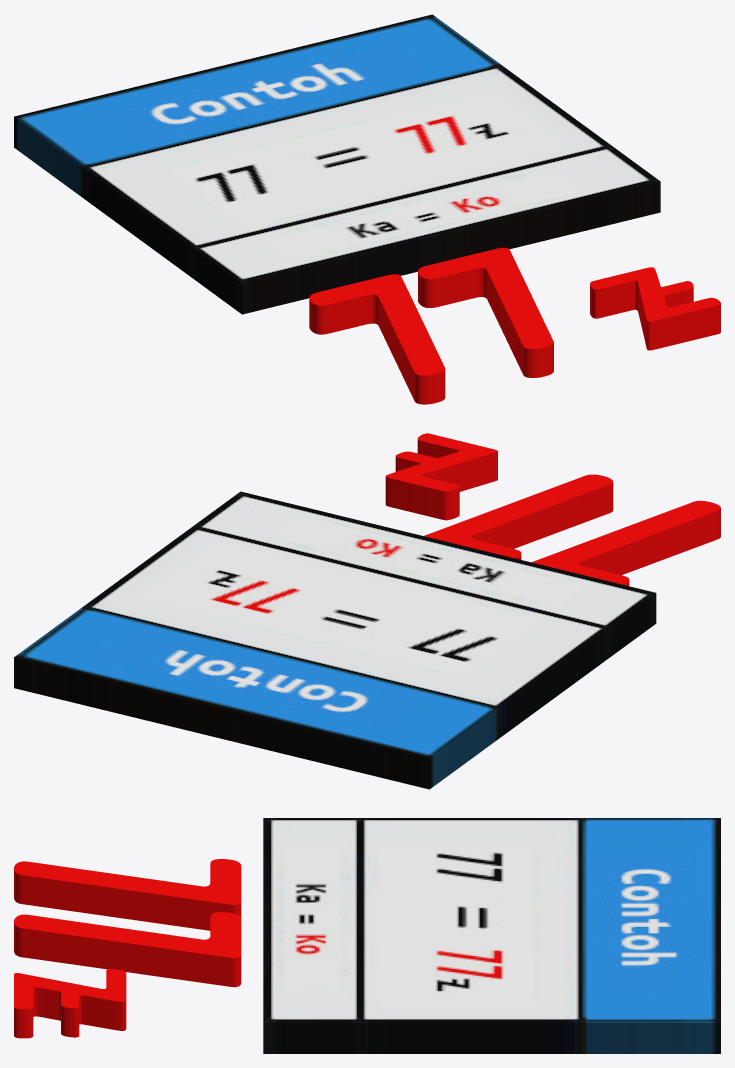
3 views of the same model, one above another, from view 1: azimuth 30°, elevation 25°; view 2: azimuth 150°, elevation 25°; view 3: azimuth 270°, elevation 25° (orthographic).
Parts seen in each view (by area): view 1: contoh-o-Rarangken, Text; view 2: contoh-o-Rarangken, Text; view 3: contoh-o-Rarangken, Text.
Boxes of the visible parts, left/top/right/bottom form: contoh-o-Rarangken: left=14, top=14, right=660, bottom=314; Text: left=309, top=247, right=720, bottom=404; contoh-o-Rarangken: left=14, top=491, right=656, bottom=789; Text: left=385, top=433, right=720, bottom=585; contoh-o-Rarangken: left=263, top=818, right=720, bottom=1053; Text: left=14, top=859, right=241, bottom=1038.
Bounding box in the file's own units: 1.06 × 0.11 × 1.54.
Materials: 2 (1 with a texture image).
